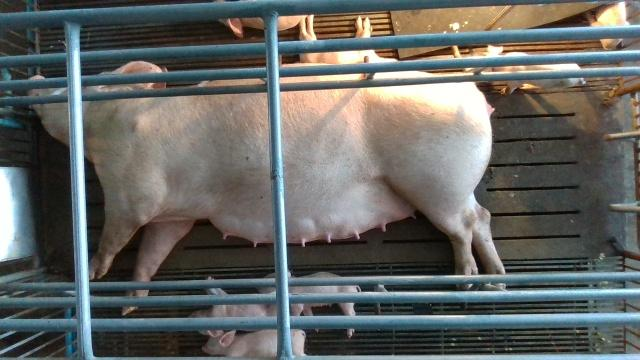piglet: (257, 270, 362, 338), (191, 276, 303, 338), (466, 46, 586, 94), (299, 16, 383, 63), (202, 330, 306, 357), (588, 1, 630, 49)
sow-sleep-lactate: (26, 58, 507, 316)
